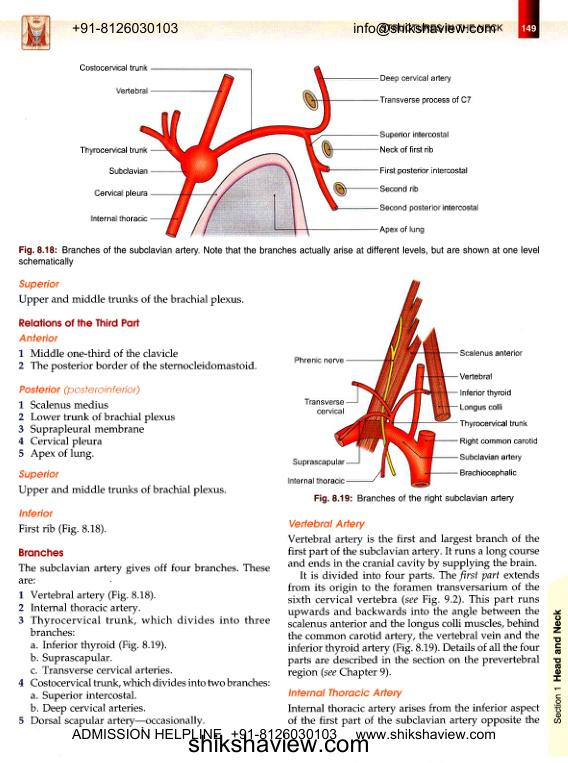caption: (18, 244, 540, 268), (313, 493, 516, 504)
image: (62, 51, 497, 242), (281, 274, 545, 491)
list: (17, 588, 272, 728), (16, 398, 177, 461), (17, 347, 258, 374)
sub-section-heading: (18, 384, 142, 397), (286, 687, 404, 700), (17, 317, 141, 329), (287, 518, 367, 531), (17, 467, 61, 481), (17, 547, 66, 558), (17, 332, 59, 344), (18, 278, 60, 290), (18, 507, 55, 519)
text: (286, 532, 541, 681), (286, 702, 541, 728), (17, 561, 272, 586), (18, 292, 244, 308), (17, 483, 227, 498), (17, 522, 107, 537)
